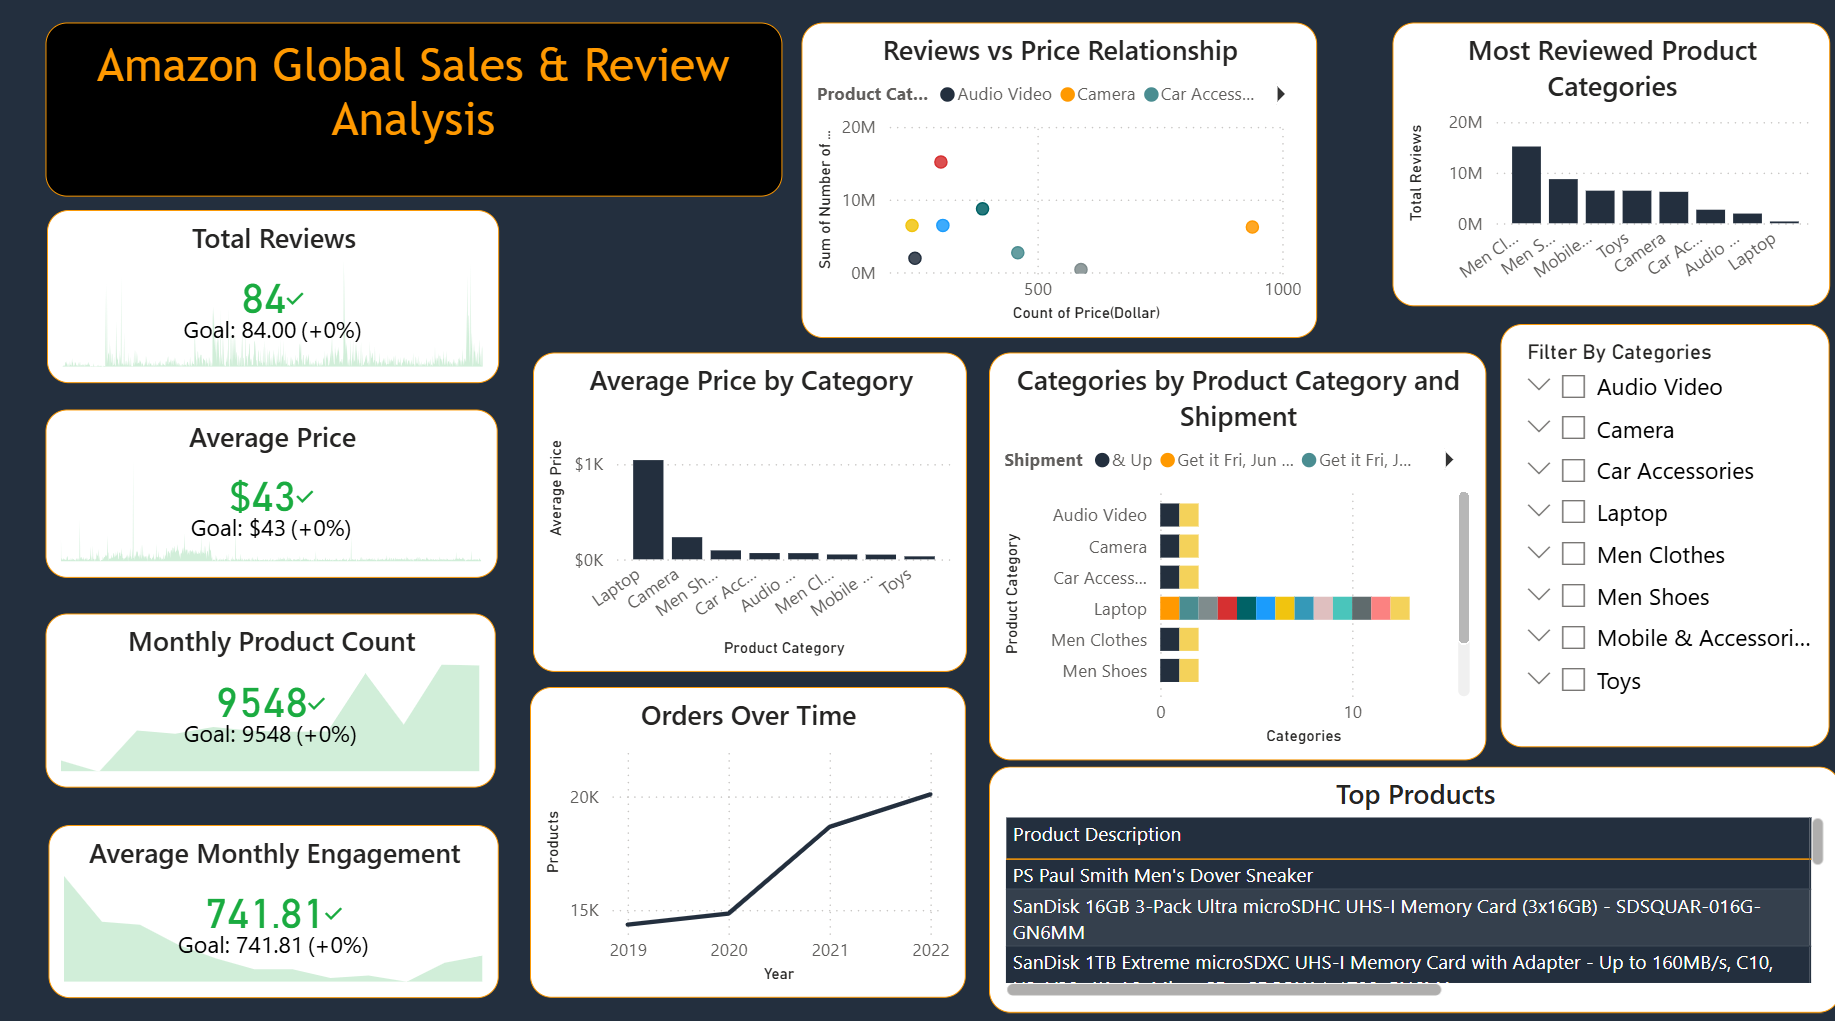

The page's visual inventory and layout, read from the dashboard file:
{"tool":"powerbi","page":{"name":"Page 1","canvas":[1280,720],"ordinal":0},"visuals":[{"type":"columnChart","title":"Most Reviewed Product Categories","fields":{"Category":["Amazon_Data.Product Category"],"Y":["Amazon_Data.Total Reviews"]},"box":[969.8,19.8,303.5,196.5],"z":0},{"type":"columnChart","title":"Average Price by Category","fields":{"Category":["Amazon_Data.Product Category"],"Y":["Amazon_Data.Average Price"]},"box":[373.8,248.8,301,221.7],"z":1000},{"type":"lineChart","title":"Orders Over Time","fields":{"Category":["Amazon_Data.Order Date.Variation.Date Hierarchy.Year","Amazon_Data.Order Date.Variation.Date Hierarchy.Quarter","Amazon_Data.Order Date.Variation.Date Hierarchy.Month"],"Y":["Amazon_Data.Products"]},"box":[372.3,480.6,301.8,215.6],"z":2000},{"type":"barChart","fields":{"Category":["Amazon_Data.Product Category"],"Y":["Amazon_Data.Categories"],"Series":["Amazon_Data.Shipment"]},"box":[690,248.8,344.4,282.5],"z":3000},{"type":"scatterChart","title":"Reviews vs Price Relationship","fields":{"Y":["Sum(Amazon_Data.Number of  reviews)"],"Series":["Amazon_Data.Product Category"],"X":["Count(Amazon_Data.Price(Dollar))"]},"box":[560.7,19.6,357.5,218.4],"z":4000},{"type":"kpi","title":"Total Reviews","fields":{"Indicator":["Amazon_Data.Total Reviews"],"TrendLine":["Amazon_Data.Order Date"],"Goal":["Amazon_Data.Avg Monthly Reviews"]},"box":[37.9,149.3,313.4,119.9],"z":5000},{"type":"kpi","title":"Average Price","fields":{"Indicator":["Amazon_Data.Average Price"],"TrendLine":["Amazon_Data.Order Date"],"Goal":["Amazon_Data.Average Price"]},"box":[36.8,288.1,313.4,116.7],"z":6000},{"type":"kpi","title":"Monthly Product Count","fields":{"Indicator":["Amazon_Data.Products"],"TrendLine":["Amazon_Data.Order Date.Variation.Date Hierarchy.Month"],"Goal":["Amazon_Data.Monthly Product Count"]},"box":[36.8,429.1,312.3,120.9],"z":7000},{"type":"kpi","title":"Average Monthly Engagement","fields":{"Indicator":["Amazon_Data.Avg Monthly Reviews"],"TrendLine":["Amazon_Data.Order Date.Variation.Date Hierarchy.Month"],"Goal":["Amazon_Data.Avg Reviews Per Product"]},"box":[38.9,576.3,312.3,119.9],"z":8000},{"type":"tableEx","title":"Top Products","fields":{"Values":["Amazon_Data.Product Description","Amazon_Data.Product Category","Amazon_Data.Price(Dollar)","Amazon_Data.Number of  reviews","Amazon_Data.Shipment"]},"box":[690,535.7,590,170.6],"z":10000},{"type":"slicer","fields":{"Values":["Amazon_Data.Product Category","Amazon_Data.Shipment","Amazon_Data.Price Range","Amazon_Data.Order Date.Variation.Date Hierarchy.Month"]},"box":[1044.2,228.2,228.2,293.4],"z":11000},{"type":"textbox","box":[36.4,19.8,510.4,120.6],"z":12000}]}

Visuals, with their boxes in screenshot pixels (x1, y1, x2, y2), scaled from the page's 1280x720 canvas onto the 1835x1021 screenshot:
"Most Reviewed Product Categories" columnChart: <bbox>1390, 28, 1825, 307</bbox>
"Average Price by Category" columnChart: <bbox>536, 353, 967, 667</bbox>
"Orders Over Time" lineChart: <bbox>534, 682, 966, 987</bbox>
barChart - Amazon_Data.Product Category x Amazon_Data.Categories: <bbox>989, 353, 1483, 753</bbox>
"Reviews vs Price Relationship" scatterChart: <bbox>804, 28, 1316, 337</bbox>
"Total Reviews" kpi: <bbox>54, 212, 504, 382</bbox>
"Average Price" kpi: <bbox>53, 409, 502, 574</bbox>
"Monthly Product Count" kpi: <bbox>53, 608, 500, 780</bbox>
"Average Monthly Engagement" kpi: <bbox>56, 817, 503, 987</bbox>
"Top Products" tableEx: <bbox>989, 760, 1834, 1002</bbox>
slicer - Amazon_Data.Product Category x Amazon_Data.Shipment: <bbox>1497, 324, 1824, 740</bbox>
textbox: <bbox>52, 28, 784, 199</bbox>
